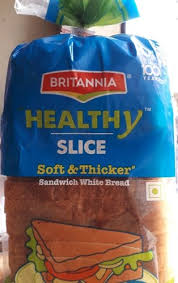bread: (6, 8, 176, 283)
